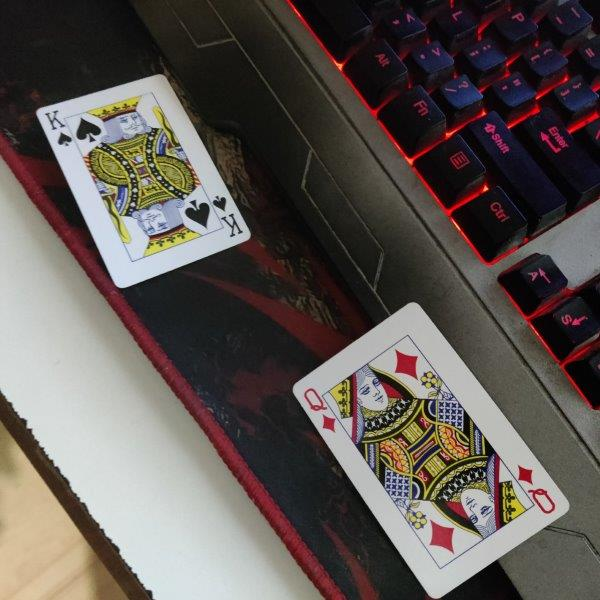King of Spades: (35, 74, 252, 290)
Queen of Diamonds: (292, 301, 572, 599)
